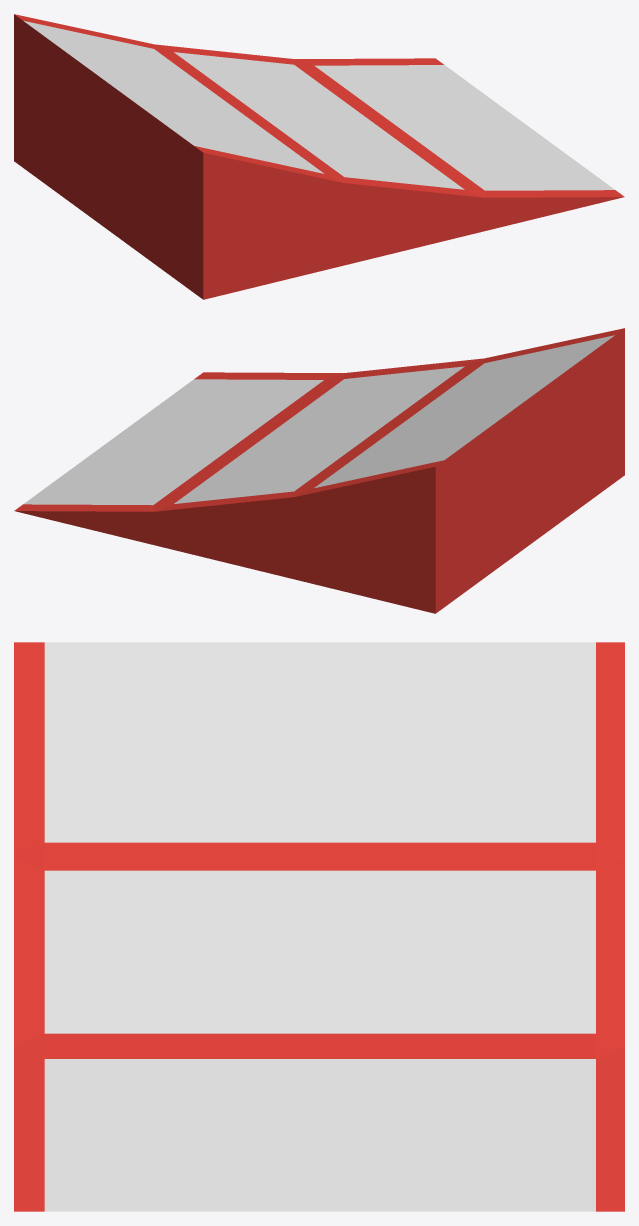
Rendered from Rampa.fbx.
3 views of the same model, one above another, from view 1: azimuth 30°, elevation 25°; view 2: azimuth 150°, elevation 25°; view 3: azimuth 270°, elevation 25° (orthographic). The views are drawn at different scales.
Visible parts, largest first — view 1: Cube; view 2: Cube; view 3: Cube.
Boxes of the visible parts, x1,y1,x2,y2 form: Cube: [14, 14, 624, 299]; Cube: [14, 328, 624, 613]; Cube: [14, 642, 624, 1211].
Bounding box in the file's own units: 1799 × 600 × 1400.
